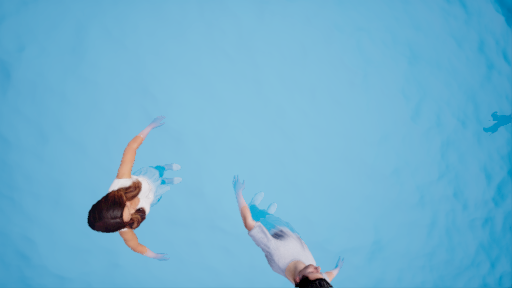person: (81, 117, 200, 256), (223, 171, 358, 288)
